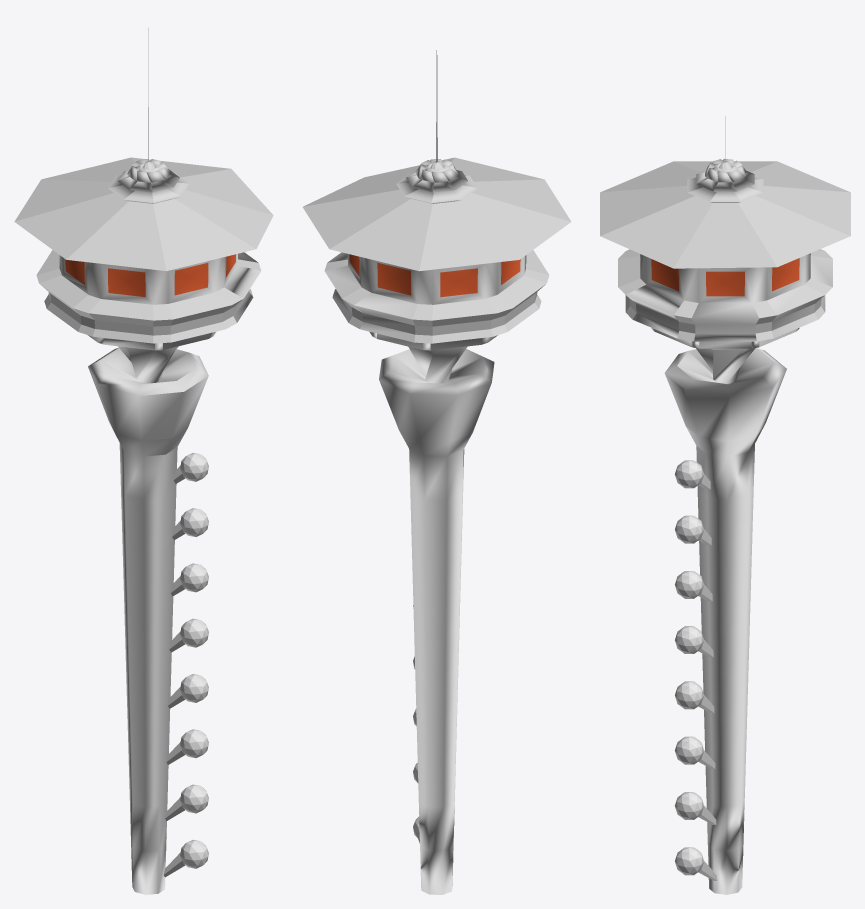
The model's file is Lightfire Top_ver5.fbx.
The picture shows the model from 3 angles, left to right: view 1: azimuth 30°, elevation 25°; view 2: azimuth 150°, elevation 25°; view 3: azimuth 270°, elevation 25°; orthographic projection.
Visible parts, largest first — view 1: lighthouse, pole, Icosphere; view 2: lighthouse, pole; view 3: lighthouse, pole, Icosphere.
Boxes of the visible parts, bbox=[...] form: lighthouse: bbox=[14, 27, 273, 383]; pole: bbox=[88, 348, 208, 894]; Icosphere: bbox=[163, 453, 208, 877]; lighthouse: bbox=[302, 50, 571, 383]; pole: bbox=[379, 349, 494, 894]; lighthouse: bbox=[600, 116, 850, 383]; pole: bbox=[664, 348, 786, 894]; Icosphere: bbox=[674, 460, 717, 880].
Size of the model in its own units: 1701 by 6557 by 1701.
